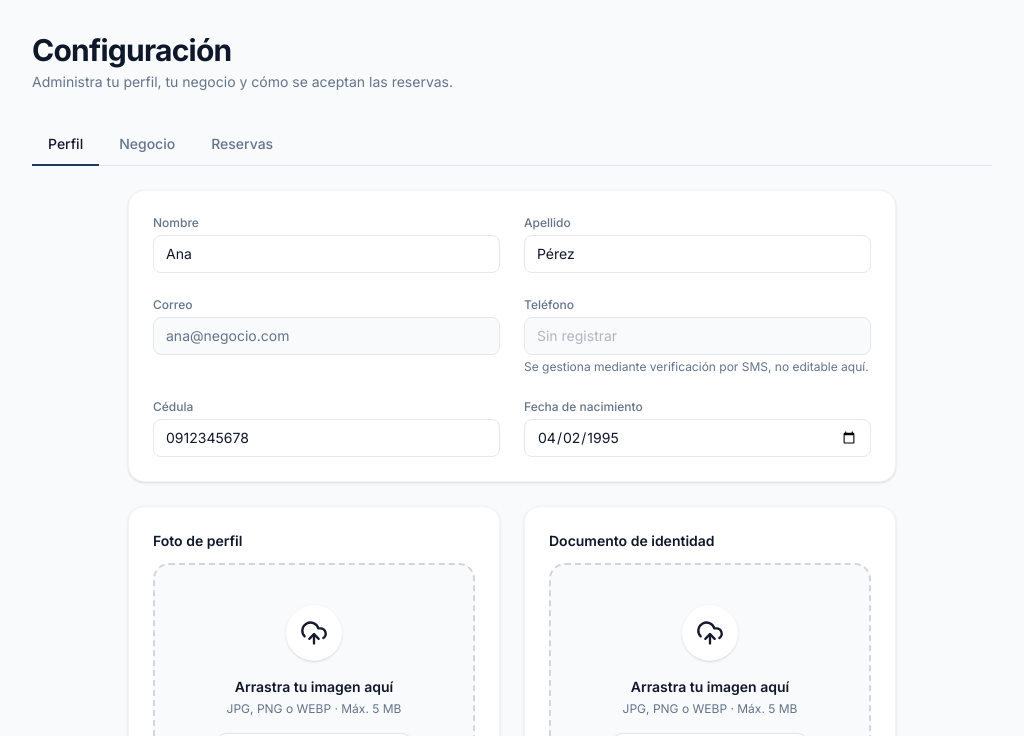
Test: ConfiguracionModule › navega a la pestaña de negocio
Click the button "Negocio".
click(147, 145)  # box [103, 124, 191, 166]
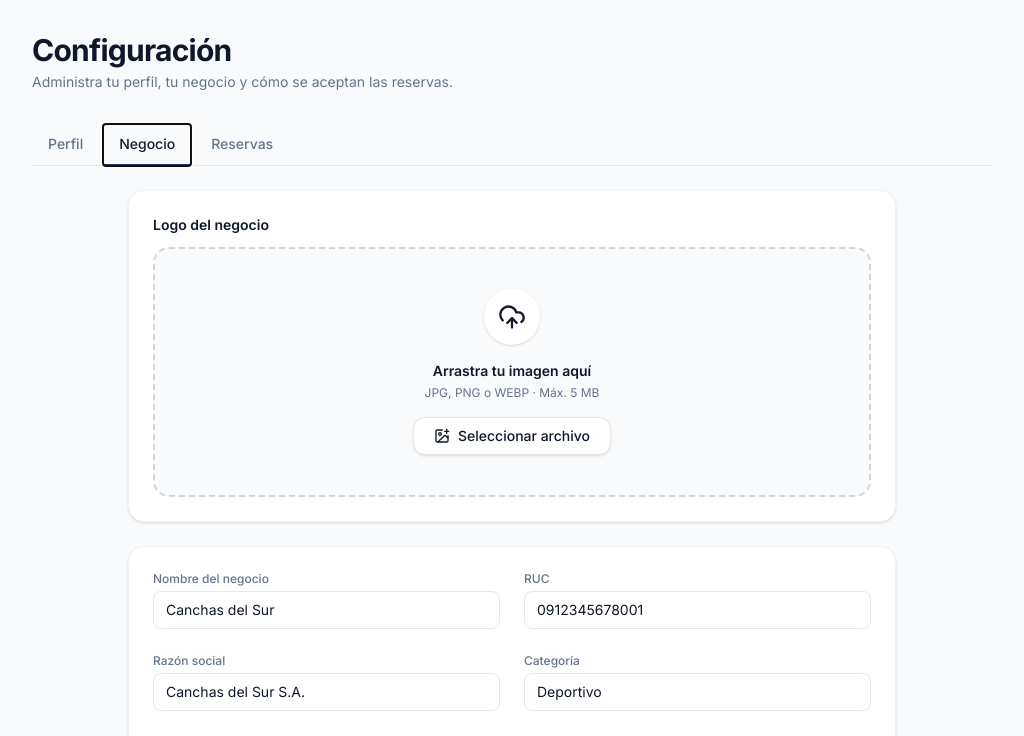
Check: the field showing "Canchas del Sur" below "Nombre del negocio" is shown, box [153, 591, 500, 629]
